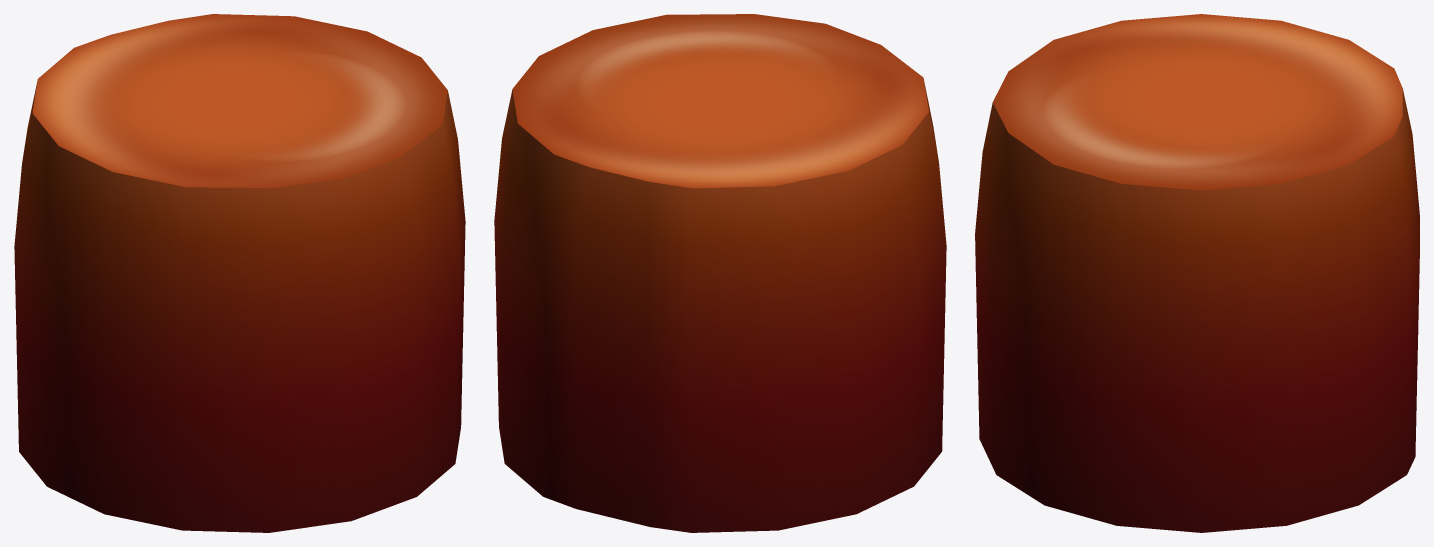
File: Syrup_Liquid_02.fbx
The picture shows the model from 3 angles, left to right: view 1: azimuth 30°, elevation 25°; view 2: azimuth 150°, elevation 25°; view 3: azimuth 270°, elevation 25°; orthographic projection.
Visible parts, largest first — view 1: Syrup_Liquid_02; view 2: Syrup_Liquid_02; view 3: Syrup_Liquid_02.
Boxes of the visible parts, bbox=[...] form: Syrup_Liquid_02: bbox=[14, 14, 465, 532]; Syrup_Liquid_02: bbox=[494, 14, 946, 532]; Syrup_Liquid_02: bbox=[975, 14, 1419, 532].
Size of the model in its own units: 31.76 by 26.02 by 31.16.
